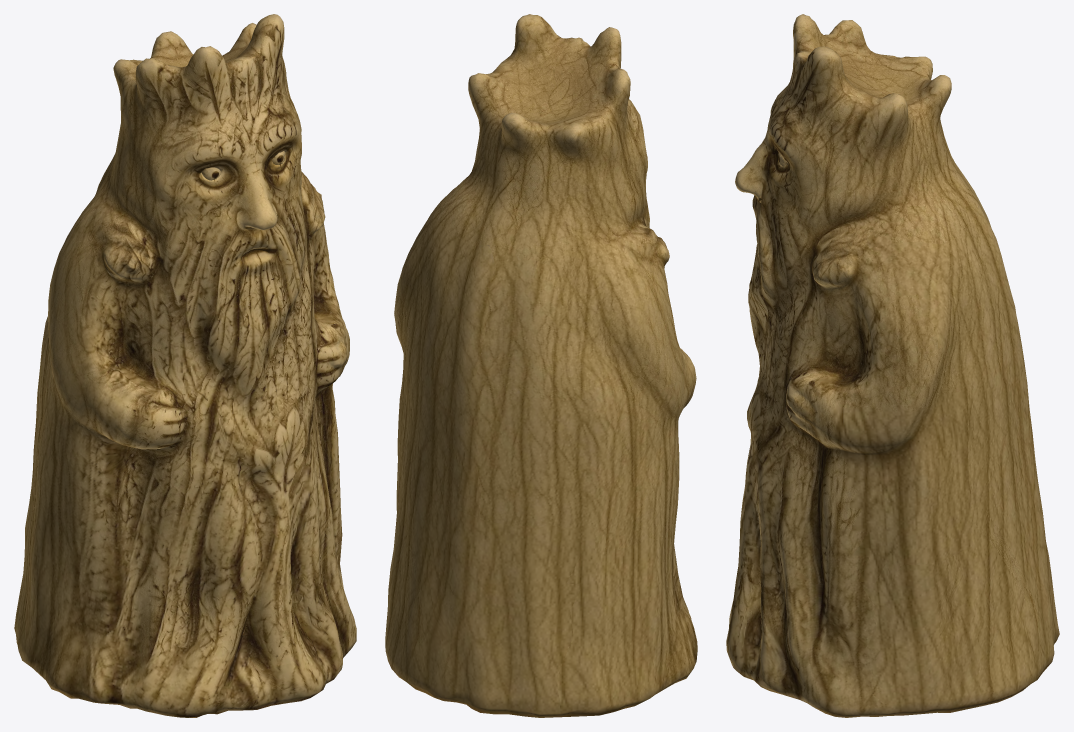
File: ent.glb
3 views of the same model, side by side, from view 1: azimuth 30°, elevation 25°; view 2: azimuth 150°, elevation 25°; view 3: azimuth 270°, elevation 25° (orthographic). The views are drawn at different scales.
Parts seen in each view (by area): view 1: mesh_node; view 2: mesh_node; view 3: mesh_node.
Part boxes in pixels (bbox=[...]): mesh_node: bbox=[14, 14, 356, 717]; mesh_node: bbox=[385, 14, 697, 717]; mesh_node: bbox=[726, 14, 1059, 717].
Size of the model in its own units: 0.4746 by 1 by 0.4825.
1 material, 1 textured.
